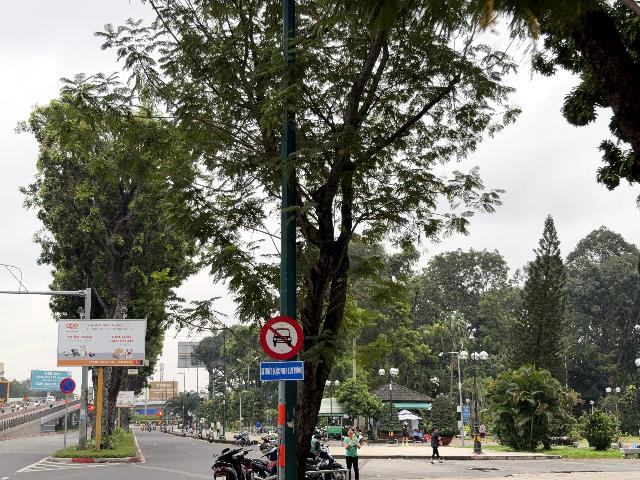cam-o-to: (260, 316, 303, 360)
